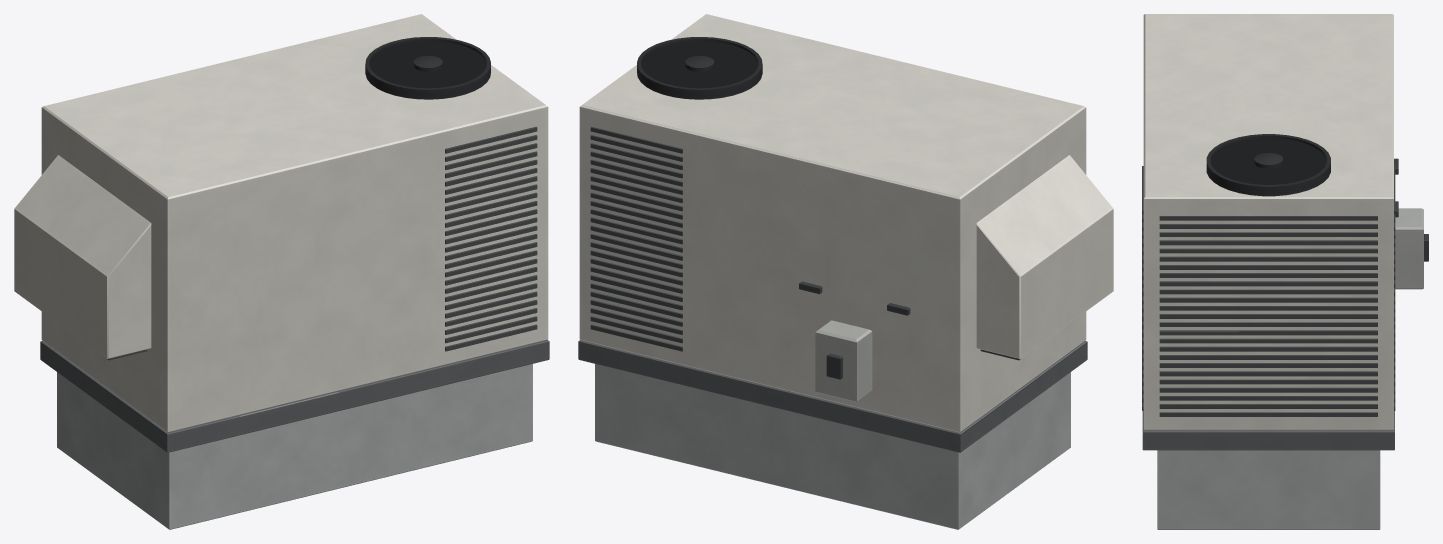
Rendered from unit.obj.
3 renders of one model, left to right at view 1: azimuth 30°, elevation 25°; view 2: azimuth 150°, elevation 25°; view 3: azimuth 270°, elevation 25°, orthographic.
Visible parts, largest first — view 1: cabinet, curb, hood, rail, fan_grill, fan_ring; view 2: cabinet, curb, hood, rail, fan_grill, disconnect, fan_ring; view 3: cabinet, curb, rail, fan_grill, disconnect, fan_ring, louvre_e_592, louvre_e_660, louvre_e_762, louvre_e_830, louvre_e_966, louvre_e_1034 (+20 smaller).
Part boxes in pixels (x1,y1,x2,y2): cabinet: [41, 14, 548, 432]; curb: [57, 364, 532, 529]; hood: [14, 155, 151, 358]; rail: [40, 340, 549, 452]; fan_grill: [369, 41, 486, 88]; fan_ring: [365, 37, 490, 99]; cabinet: [579, 14, 1086, 432]; curb: [595, 364, 1070, 529]; hood: [976, 155, 1113, 358]; rail: [578, 340, 1087, 452]; fan_grill: [641, 41, 758, 88]; disconnect: [815, 320, 872, 402]; fan_ring: [637, 37, 762, 99]; cabinet: [1143, 14, 1393, 430]; curb: [1157, 450, 1380, 529]; rail: [1142, 411, 1394, 450]; fan_grill: [1210, 138, 1326, 184]; disconnect: [1395, 208, 1423, 289]; fan_ring: [1206, 134, 1330, 196]; louvre_e_592: [1159, 387, 1377, 392]; louvre_e_660: [1159, 371, 1377, 376]; louvre_e_762: [1159, 346, 1377, 351]; louvre_e_830: [1159, 330, 1377, 335]; louvre_e_966: [1159, 297, 1377, 302]; louvre_e_1034: [1159, 281, 1377, 286].
Bounding box in the file's own units: 1.84 × 1.45 × 1.08.
